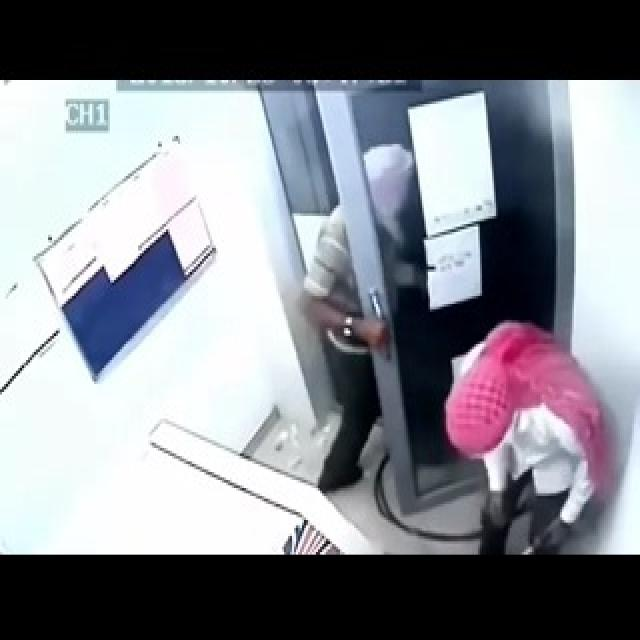thief: (433, 326, 582, 511)
